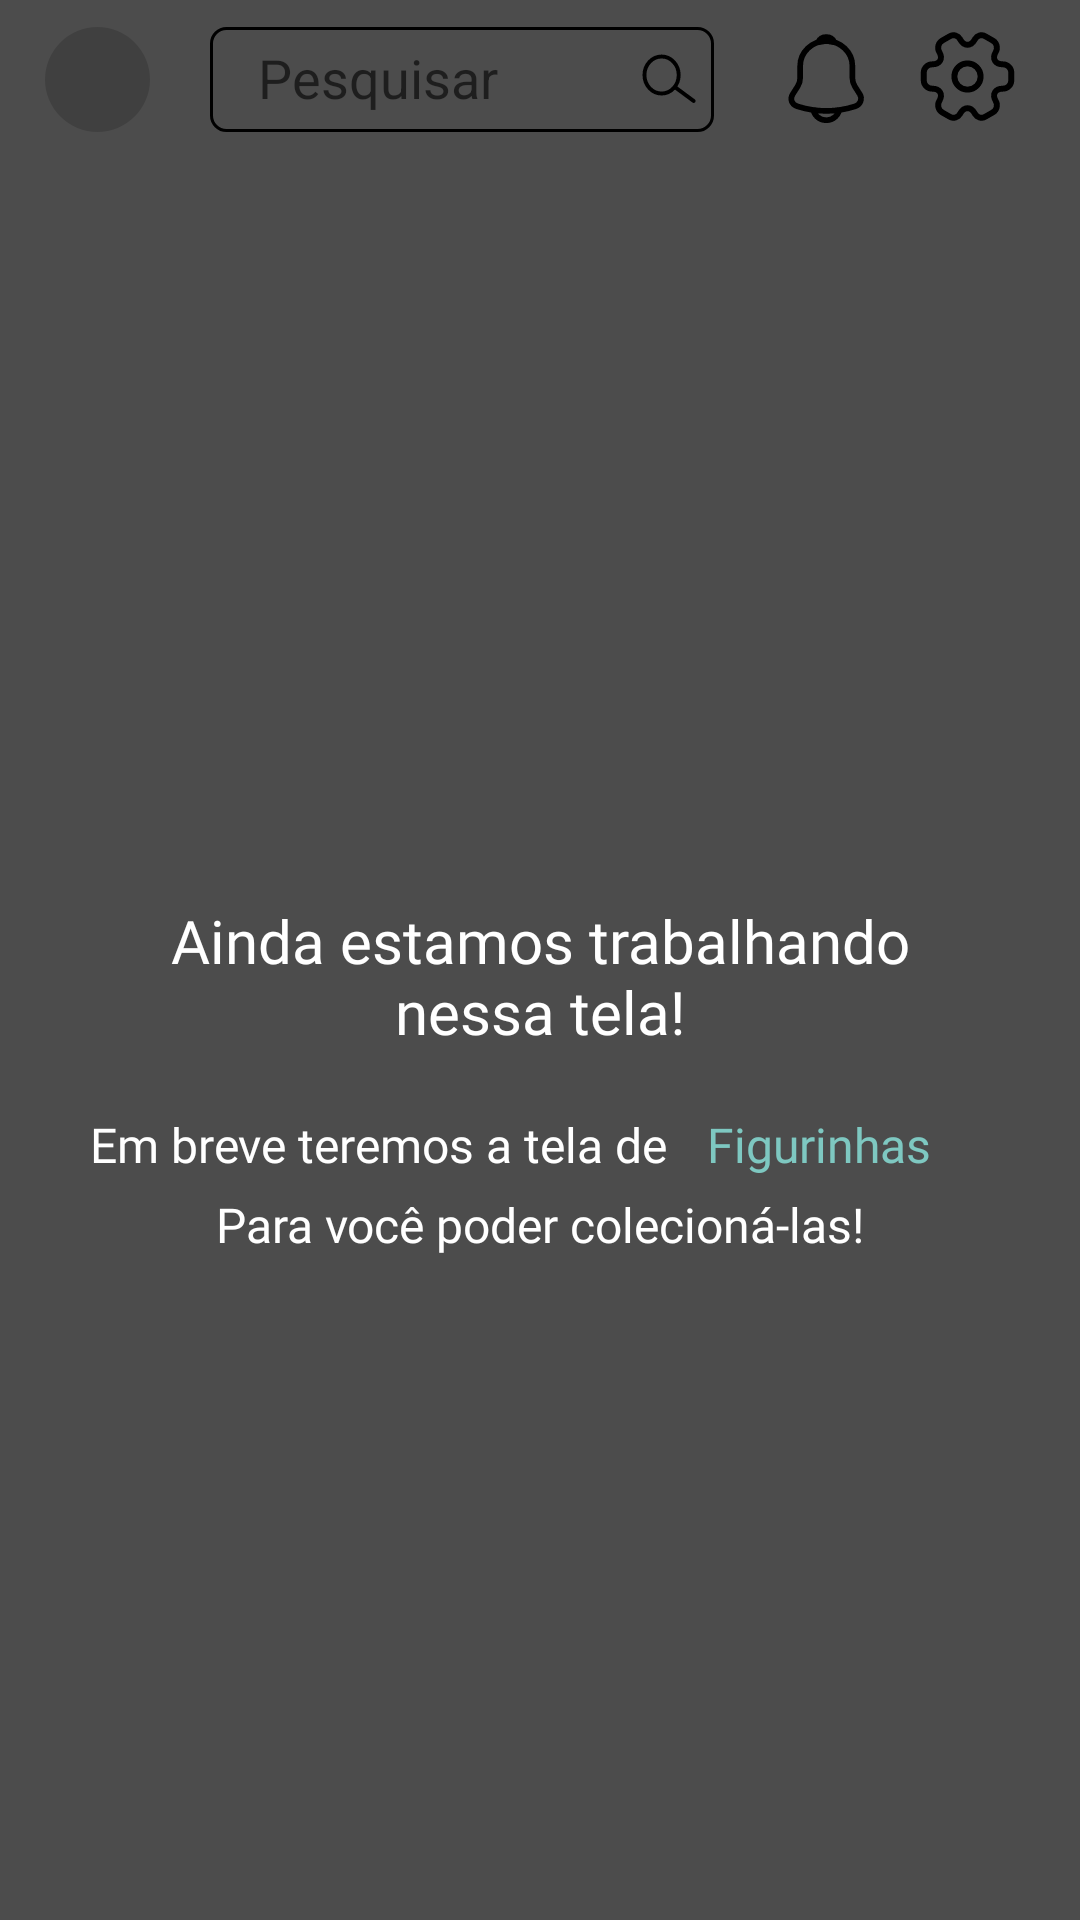

Named icons in this screenshot (1080 × 1920) and their centers, point (x, y):
iconlupa: point (669, 78)
